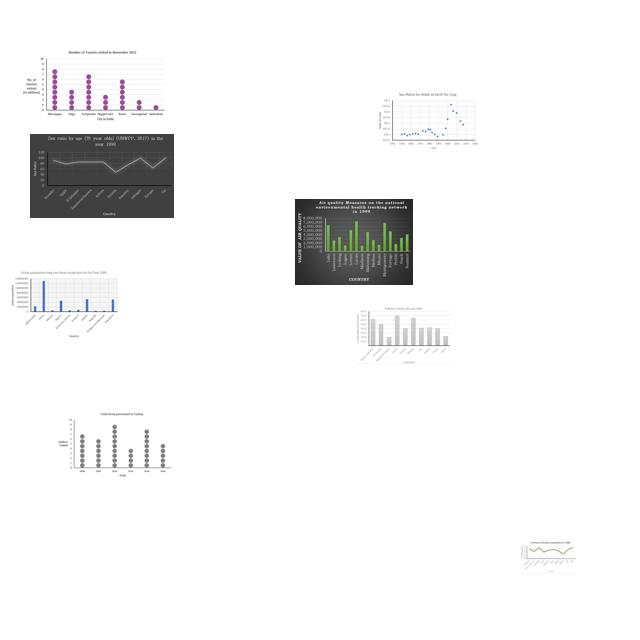Graph: (30, 134, 174, 218), (22, 49, 165, 123), (295, 199, 413, 285), (54, 410, 174, 480), (9, 269, 119, 340), (375, 90, 481, 153), (356, 306, 451, 364), (520, 540, 577, 574)
